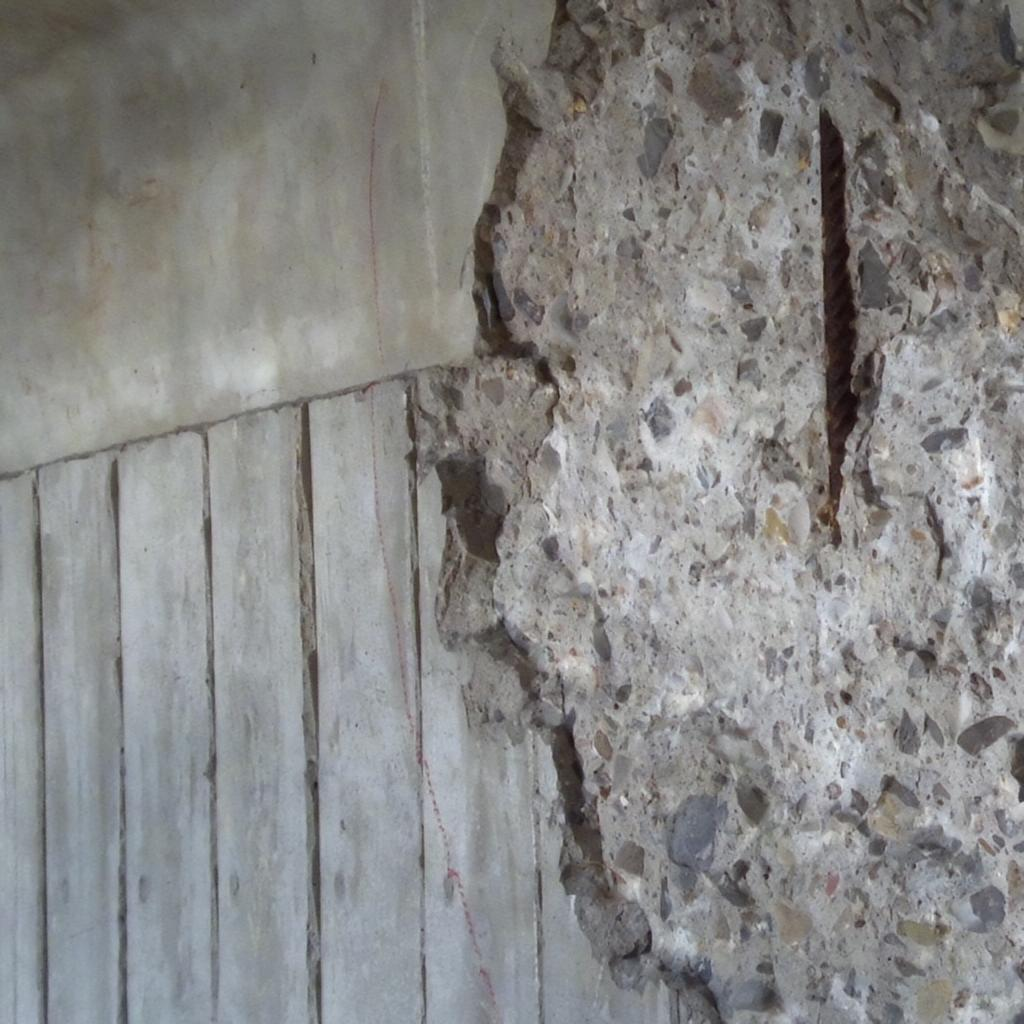exposed_rebar: (820, 110, 858, 545)
spalling: (418, 0, 1024, 1024)
